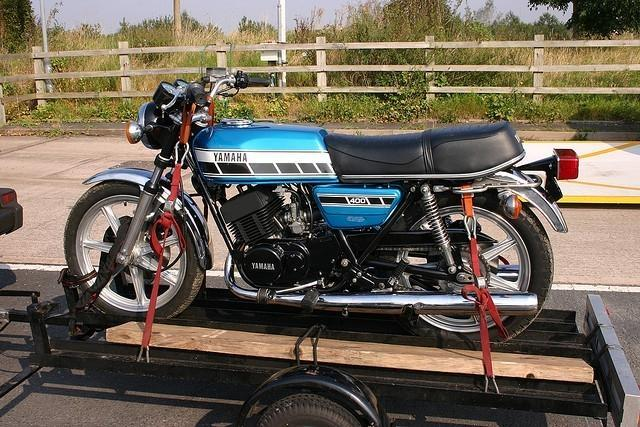motorcycle: (68, 73, 566, 344)
